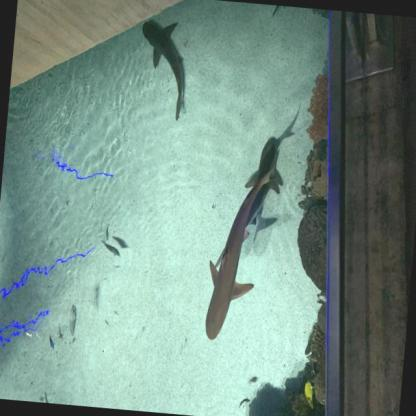fish: (66, 303, 80, 344), (302, 378, 316, 410), (100, 240, 121, 258), (47, 332, 56, 350), (239, 396, 251, 408), (104, 223, 111, 240)
shark: (197, 152, 279, 352), (226, 130, 288, 256), (132, 15, 196, 125)
